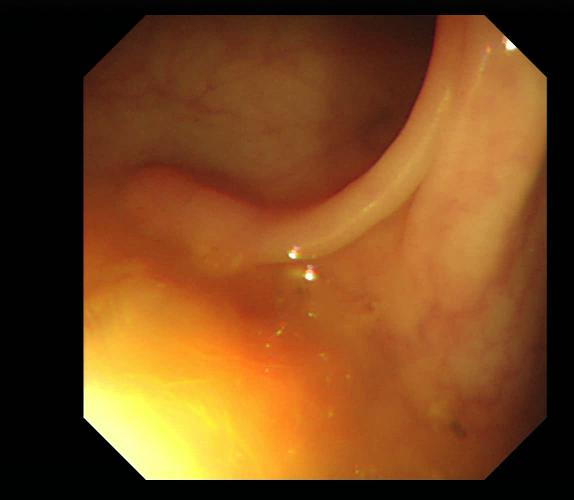polyp: (120, 161, 286, 273)
